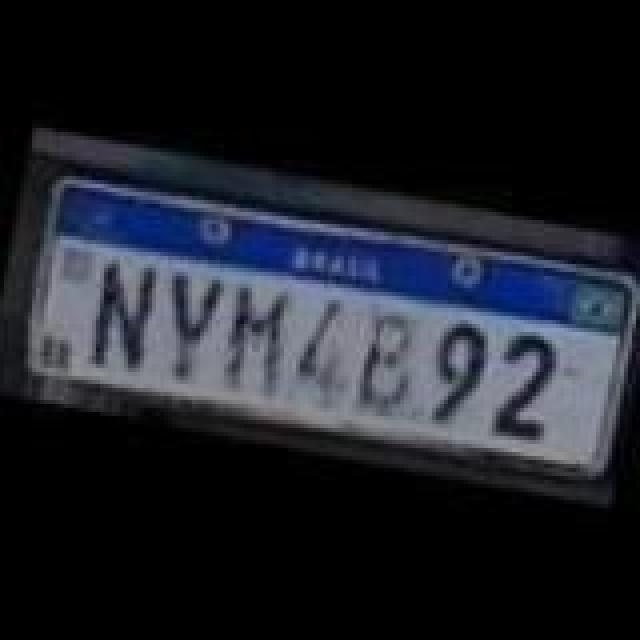2: (480, 324, 564, 444)
4: (286, 298, 354, 410)
9: (416, 316, 500, 436)
B: (342, 306, 426, 422)
M: (208, 280, 304, 408)
N: (80, 258, 160, 374)
Y: (150, 264, 234, 384)
